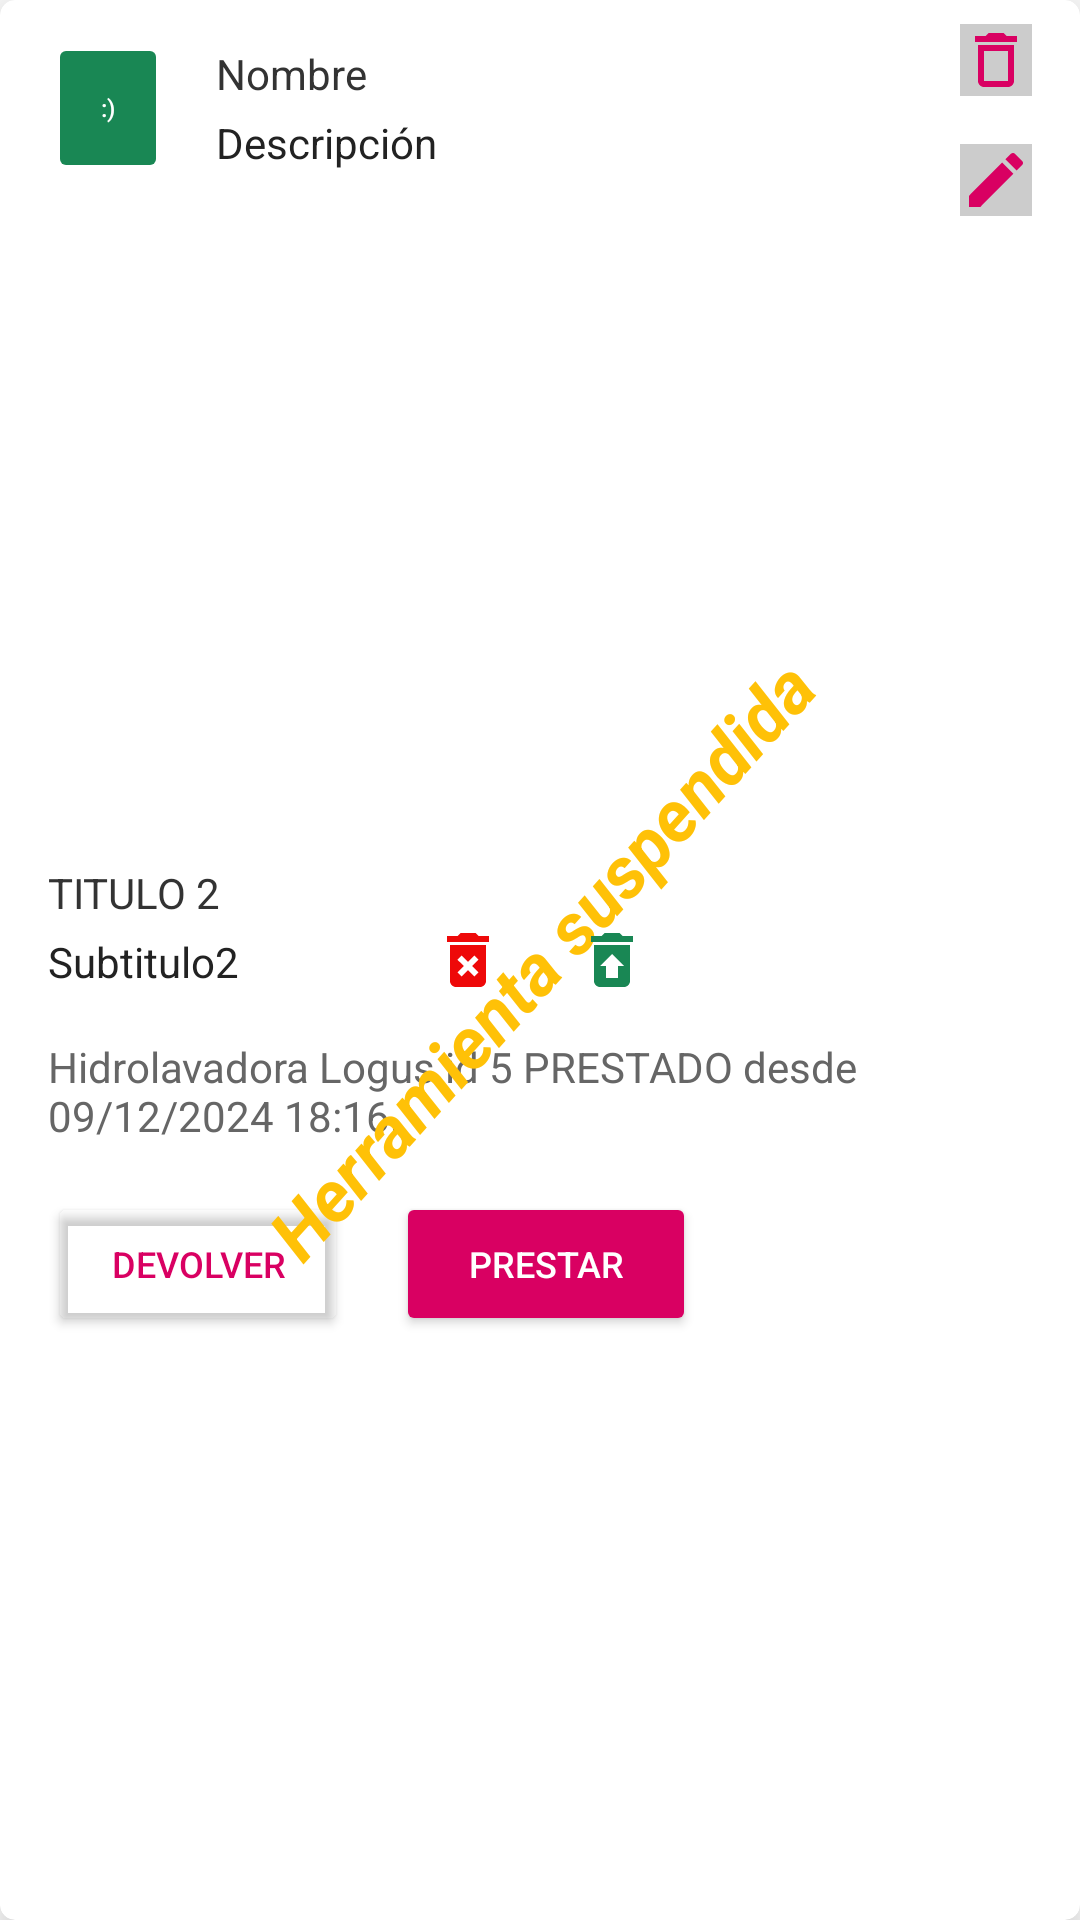

Named icons in this screenshot (1080w x 1920h) and their centers, (x=x, y=y):
delete first: (x=996, y=60)
delete forever danger: (x=468, y=960)
edit first: (x=996, y=180)
